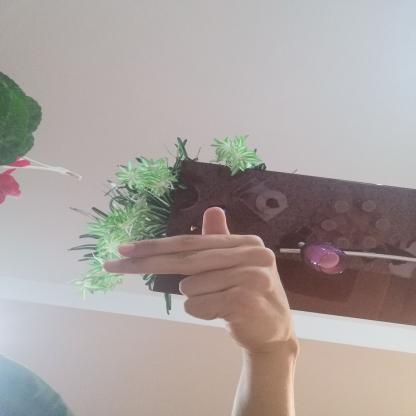GHAYN: (89, 198, 306, 359)
